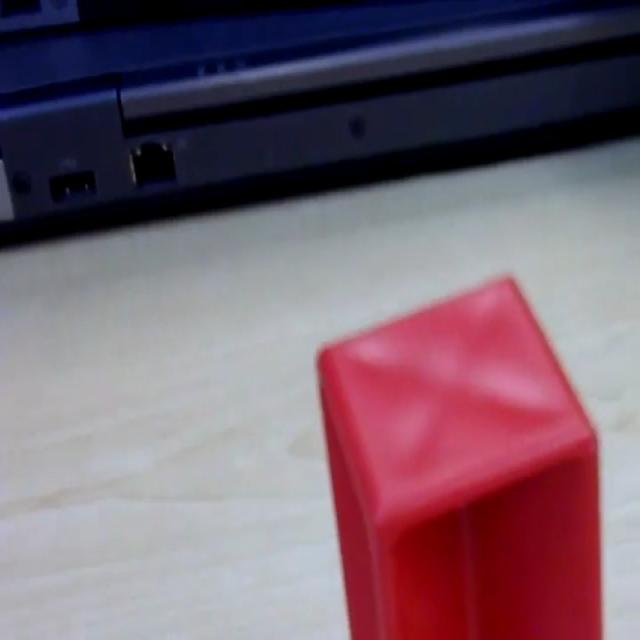red_block: (314, 269, 604, 636)
